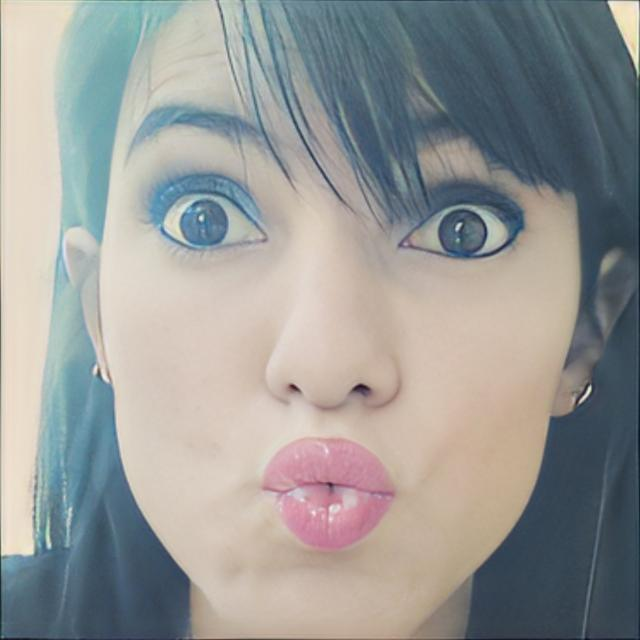surprise: (98, 0, 583, 640)
